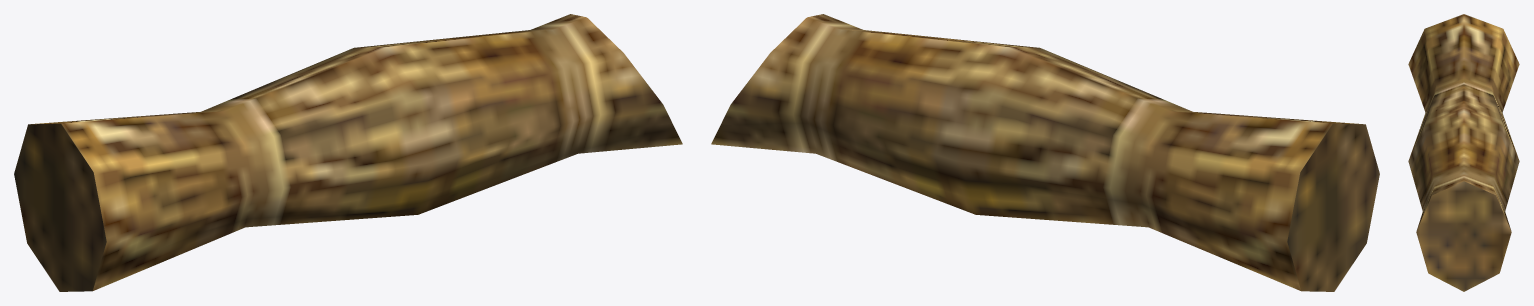
Rendered from general_obj_target 02-02.glb.
The picture shows the model from 3 angles, left to right: view 1: azimuth 30°, elevation 25°; view 2: azimuth 150°, elevation 25°; view 3: azimuth 270°, elevation 25°; orthographic projection. The views are drawn at different scales.
Parts seen in each view (by area): view 1: Sphere01; view 2: Sphere01; view 3: Sphere01.
Boxes of the visible parts, x1,y1,x2,y2 form: Sphere01: [14, 14, 682, 291]; Sphere01: [711, 14, 1379, 291]; Sphere01: [1408, 14, 1519, 291].
Bounding box in the file's own units: 1.14 × 0.3071 × 0.3017.
Materials: 1 (1 with a texture image).
